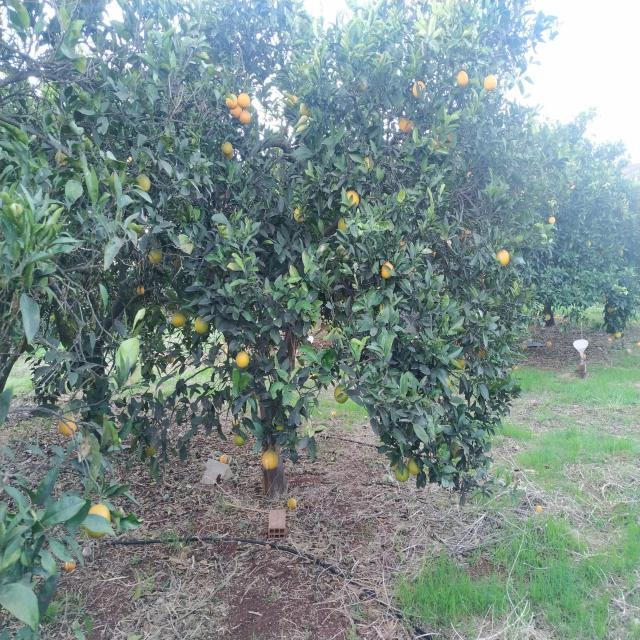Jeruk Belum Matang: (394, 463, 410, 482), (136, 174, 152, 192), (334, 385, 348, 404), (195, 316, 209, 334), (408, 458, 421, 476), (172, 312, 186, 328), (148, 250, 163, 264), (144, 444, 156, 458), (449, 442, 459, 458), (221, 142, 232, 156), (300, 104, 310, 118), (338, 217, 348, 231), (234, 434, 244, 446)
Jeruk Sudah Matang: (86, 504, 111, 538), (58, 414, 76, 436), (262, 450, 278, 470), (496, 250, 510, 268), (412, 81, 426, 99), (484, 75, 498, 92), (236, 351, 249, 368), (346, 191, 359, 207), (382, 262, 394, 279), (456, 70, 468, 87), (238, 93, 250, 109), (226, 94, 238, 110), (240, 110, 252, 124), (230, 105, 242, 119), (294, 208, 306, 222), (400, 119, 412, 132), (288, 498, 296, 510), (288, 95, 298, 104), (137, 286, 145, 295), (548, 216, 556, 224)
